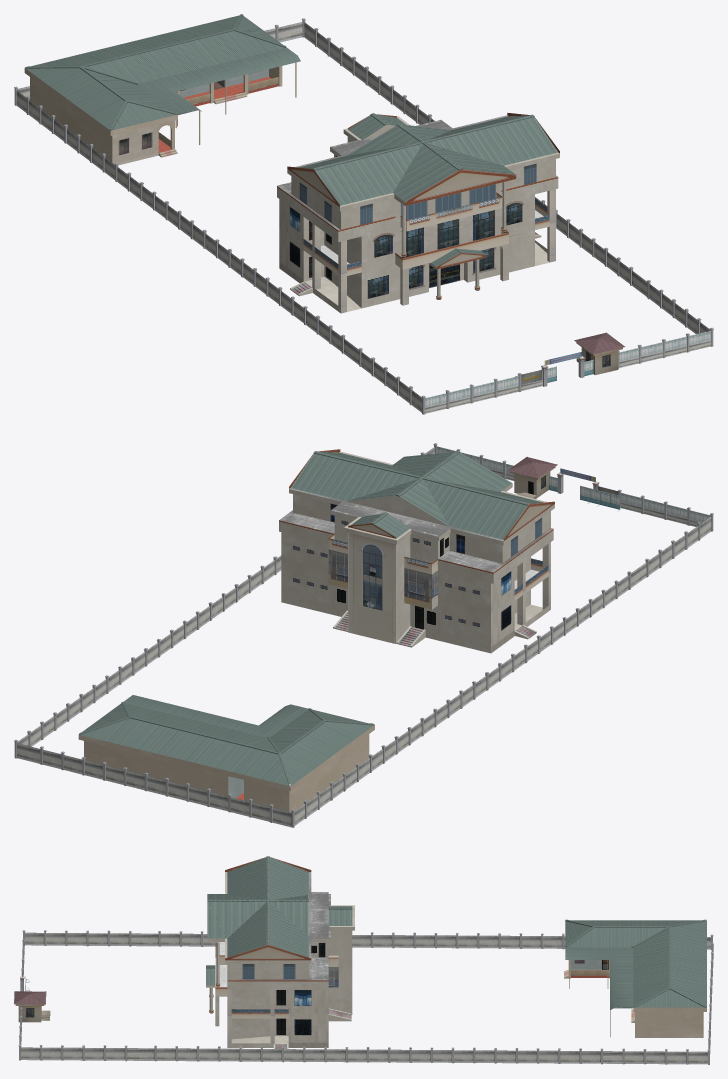
The model's file is Doan Thanh Nien Cong San Ho Chi Minh Tinh Binh Phuoc.glb.
3 renders of one model, top to bottom at view 1: azimuth 30°, elevation 25°; view 2: azimuth 150°, elevation 25°; view 3: azimuth 270°, elevation 25°, orthographic. The views are drawn at different scales.
Visible parts, largest first — view 1: nha_chinh, nha_phu, cong___hang_rao; view 2: nha_chinh, nha_phu, cong___hang_rao; view 3: nha_chinh, cong___hang_rao, nha_phu.
Boxes of the visible parts, x1,y1,x2,y2 form: nha_chinh: (277,112,559,313); nha_phu: (24,14,300,165); cong___hang_rao: (14,18,713,414); nha_chinh: (279,449,554,653); nha_phu: (78,695,374,812); cong___hang_rao: (14,443,713,827); nha_chinh: (206,856,354,1048); cong___hang_rao: (14,930,713,1064); nha_phu: (564,919,706,1037).
Size of the model in its own units: 33.25 by 13.54 by 81.88.
Materials: 3 (3 with a texture image).
